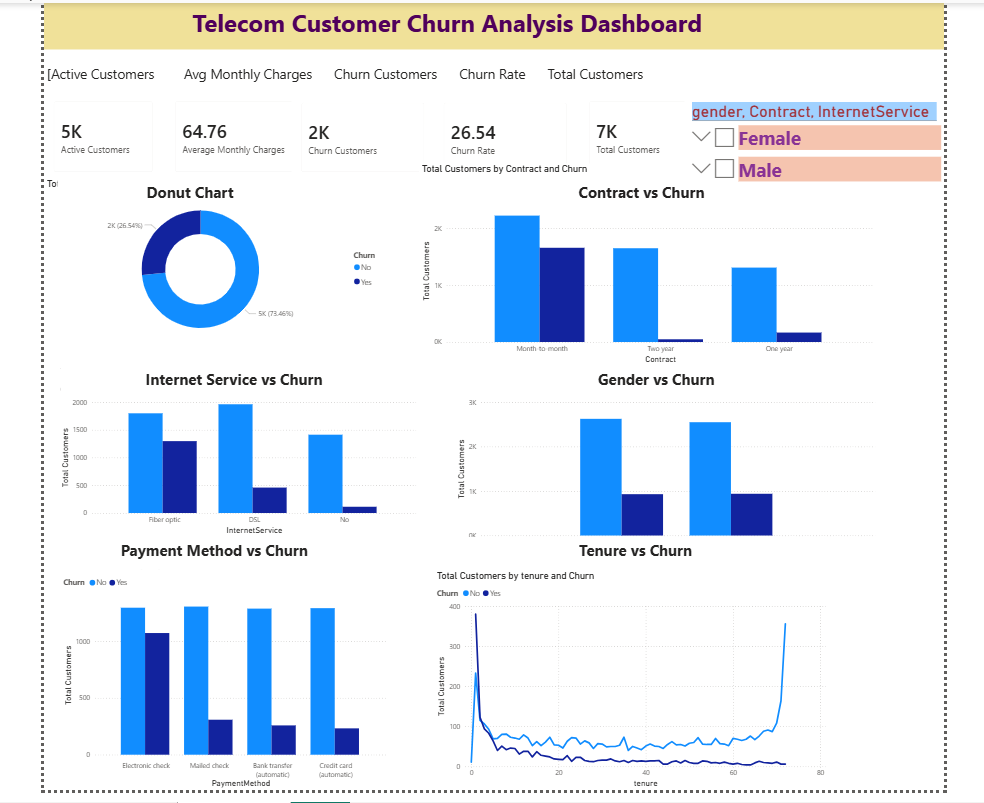

The dashboard page shown, as its layout file describes it:
{"tool":"powerbi","page":{"name":"Page 1","canvas":[1600,1400],"ordinal":0},"visuals":[{"type":"cardVisual","fields":{"Data":["WA_Fn-UseC_-Telco-Customer-Churn.Active Customers"]},"box":[0,157.4,210.8,160.1],"z":0},{"type":"cardVisual","fields":{"Data":["WA_Fn-UseC_-Telco-Customer-Churn.Average Monthly Charges"]},"box":[216.1,157.4,253.5,160.1],"z":1000},{"type":"cardVisual","fields":{"Data":["WA_Fn-UseC_-Telco-Customer-Churn.Churn Customers"]},"box":[440.3,160.1,253.5,157.4],"z":2000},{"type":"cardVisual","fields":{"Data":["WA_Fn-UseC_-Telco-Customer-Churn.Churn Rate"]},"box":[693.8,160.1,253.5,157.4],"z":3000},{"type":"cardVisual","fields":{"Data":["WA_Fn-UseC_-Telco-Customer-Churn.Total Customers"]},"box":[952.6,157.4,253.5,160.1],"z":4000},{"type":"donutChart","fields":{"Category":["WA_Fn-UseC_-Telco-Customer-Churn.Churn"],"Y":["WA_Fn-UseC_-Telco-Customer-Churn.Total Customers"]},"box":[0,312.2,613.7,301.5],"z":4001},{"type":"clusteredColumnChart","fields":{"Category":["WA_Fn-UseC_-Telco-Customer-Churn.Contract"],"Series":["WA_Fn-UseC_-Telco-Customer-Churn.Churn"],"Y":["WA_Fn-UseC_-Telco-Customer-Churn.Total Customers"]},"box":[667.1,285.5,813.9,360.2],"z":4002},{"type":"clusteredColumnChart","fields":{"Category":["WA_Fn-UseC_-Telco-Customer-Churn.InternetService"],"Y":["WA_Fn-UseC_-Telco-Customer-Churn.Total Customers"],"Series":["WA_Fn-UseC_-Telco-Customer-Churn.Churn"]},"box":[24,645.8,643.1,304.2],"z":4003},{"type":"clusteredColumnChart","fields":{"Category":["WA_Fn-UseC_-Telco-Customer-Churn.gender"],"Y":["WA_Fn-UseC_-Telco-Customer-Churn.Total Customers"],"Series":["WA_Fn-UseC_-Telco-Customer-Churn.Churn"]},"box":[728.5,645.8,755.2,344.2],"z":4004},{"type":"clusteredColumnChart","fields":{"Category":["WA_Fn-UseC_-Telco-Customer-Churn.PaymentMethod"],"Y":["WA_Fn-UseC_-Telco-Customer-Churn.Total Customers"],"Series":["WA_Fn-UseC_-Telco-Customer-Churn.Churn"]},"box":[29.4,990,584.4,410.9],"z":4005},{"type":"lineChart","fields":{"Category":["WA_Fn-UseC_-Telco-Customer-Churn.tenure"],"Y":["WA_Fn-UseC_-Telco-Customer-Churn.Total Customers"],"Series":["WA_Fn-UseC_-Telco-Customer-Churn.Churn"]},"box":[693.8,1008.7,701.8,392.3],"z":4006},{"type":"slicer","fields":{"Values":["WA_Fn-UseC_-Telco-Customer-Churn.gender","WA_Fn-UseC_-Telco-Customer-Churn.Contract","WA_Fn-UseC_-Telco-Customer-Churn.InternetService"]},"box":[1139.4,170.8,461.6,224.1],"z":4007},{"type":"textbox","box":[0,104.1,1107.4,68],"z":4008},{"type":"textbox","box":[24,312.2,1206.1,53.4],"z":4009},{"type":"textbox","box":[0,0,1601,82.7],"z":4010},{"type":"textbox","box":[29.4,645.8,1571.7,53.4],"z":4011},{"type":"textbox","box":[0,950,1601,58.7],"z":4012}]}

Visuals, with their boxes on the page's 1600x1400 design canvas (x1, y1, x2, y2). These are canvas units, not pixel positions in the 984x803 screenshot, which may show the page scaled, cropped or inside an application window:
cardVisual - WA_Fn-UseC_-Telco-Customer-Churn.Active Customers: (x1=0, y1=157, x2=211, y2=318)
cardVisual - WA_Fn-UseC_-Telco-Customer-Churn.Average Monthly Charges: (x1=216, y1=157, x2=470, y2=318)
cardVisual - WA_Fn-UseC_-Telco-Customer-Churn.Churn Customers: (x1=440, y1=160, x2=694, y2=318)
cardVisual - WA_Fn-UseC_-Telco-Customer-Churn.Churn Rate: (x1=694, y1=160, x2=947, y2=318)
cardVisual - WA_Fn-UseC_-Telco-Customer-Churn.Total Customers: (x1=953, y1=157, x2=1206, y2=318)
donutChart - WA_Fn-UseC_-Telco-Customer-Churn.Churn x WA_Fn-UseC_-Telco-Customer-Churn.Total Customers: (x1=0, y1=312, x2=614, y2=614)
clusteredColumnChart - WA_Fn-UseC_-Telco-Customer-Churn.Contract x WA_Fn-UseC_-Telco-Customer-Churn.Churn: (x1=667, y1=286, x2=1481, y2=646)
clusteredColumnChart - WA_Fn-UseC_-Telco-Customer-Churn.InternetService x WA_Fn-UseC_-Telco-Customer-Churn.Total Customers: (x1=24, y1=646, x2=667, y2=950)
clusteredColumnChart - WA_Fn-UseC_-Telco-Customer-Churn.gender x WA_Fn-UseC_-Telco-Customer-Churn.Total Customers: (x1=728, y1=646, x2=1484, y2=990)
clusteredColumnChart - WA_Fn-UseC_-Telco-Customer-Churn.PaymentMethod x WA_Fn-UseC_-Telco-Customer-Churn.Total Customers: (x1=29, y1=990, x2=614, y2=1401)
lineChart - WA_Fn-UseC_-Telco-Customer-Churn.tenure x WA_Fn-UseC_-Telco-Customer-Churn.Total Customers: (x1=694, y1=1009, x2=1396, y2=1401)
slicer - WA_Fn-UseC_-Telco-Customer-Churn.gender x WA_Fn-UseC_-Telco-Customer-Churn.Contract: (x1=1139, y1=171, x2=1601, y2=395)
textbox: (x1=0, y1=104, x2=1107, y2=172)
textbox: (x1=24, y1=312, x2=1230, y2=366)
textbox: (x1=0, y1=0, x2=1601, y2=83)
textbox: (x1=29, y1=646, x2=1601, y2=699)
textbox: (x1=0, y1=950, x2=1601, y2=1009)
